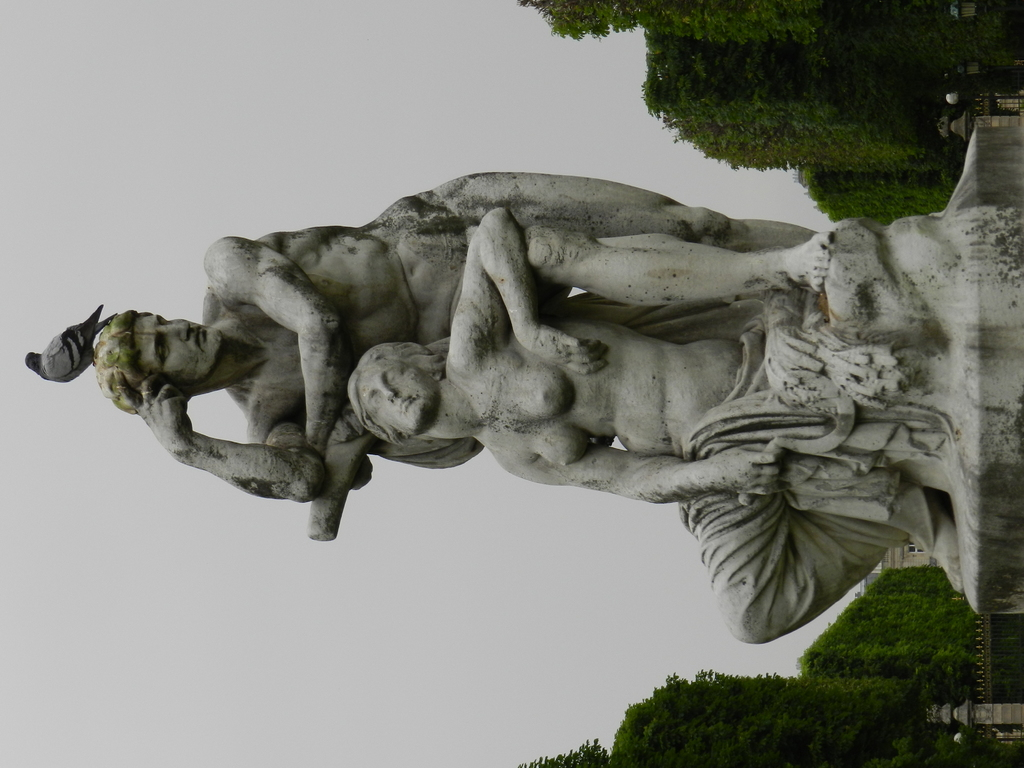Animal: (24, 301, 121, 384)
